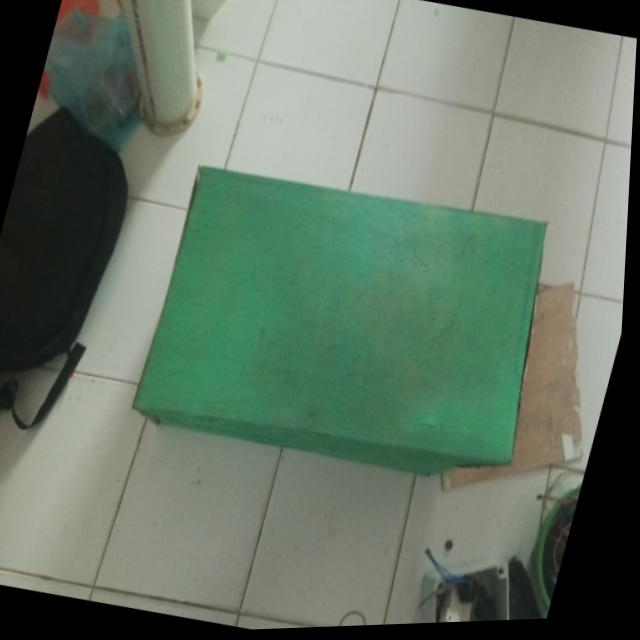green_box: (96, 122, 603, 569)
